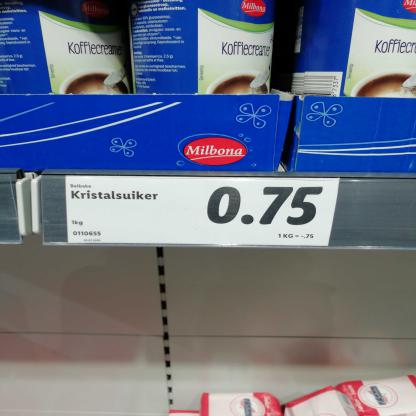prtg: (65, 177, 341, 247)
